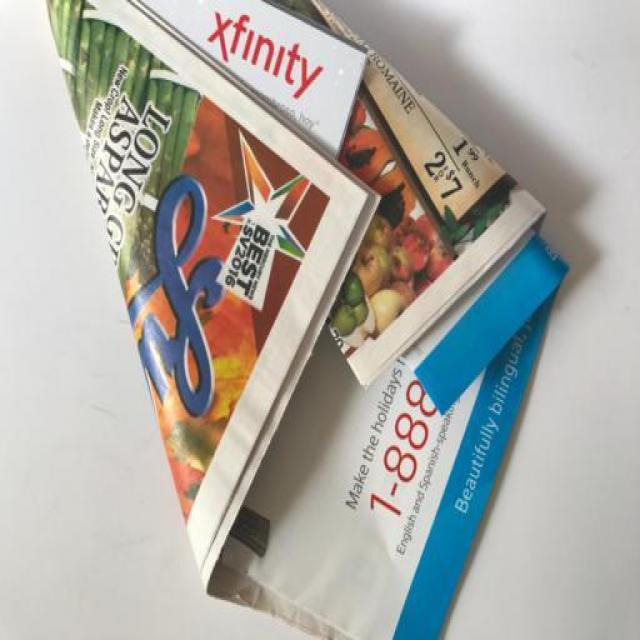paper: (38, 1, 594, 640)
